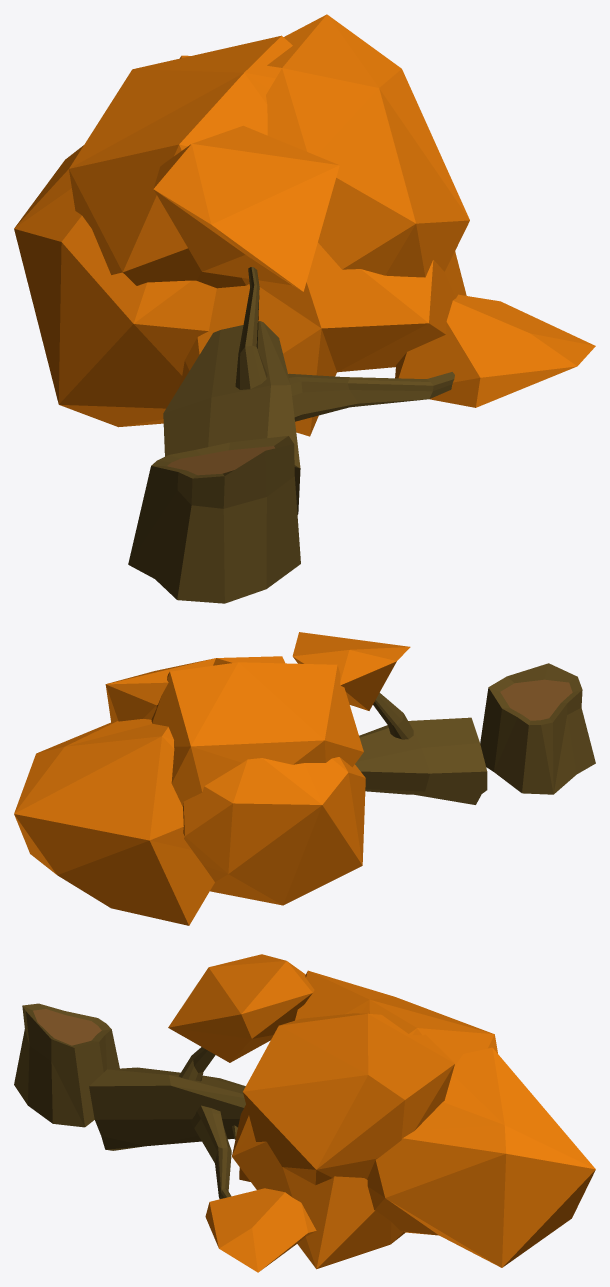
The model's file is Tree#11.fbx.
3 renders of one model, top to bottom at view 1: azimuth 30°, elevation 25°; view 2: azimuth 150°, elevation 25°; view 3: azimuth 270°, elevation 25°, orthographic. The views are drawn at different scales.
Parts seen in each view (by area): view 1: Tree#11; view 2: Tree#11; view 3: Tree#11.
Part boxes in pixels (box(x1,y1,x2,y2)): Tree#11: box(14, 14, 595, 603); Tree#11: box(14, 632, 595, 925); Tree#11: box(14, 954, 595, 1272).
Bounding box in the file's own units: 1724 × 959 × 2219.
